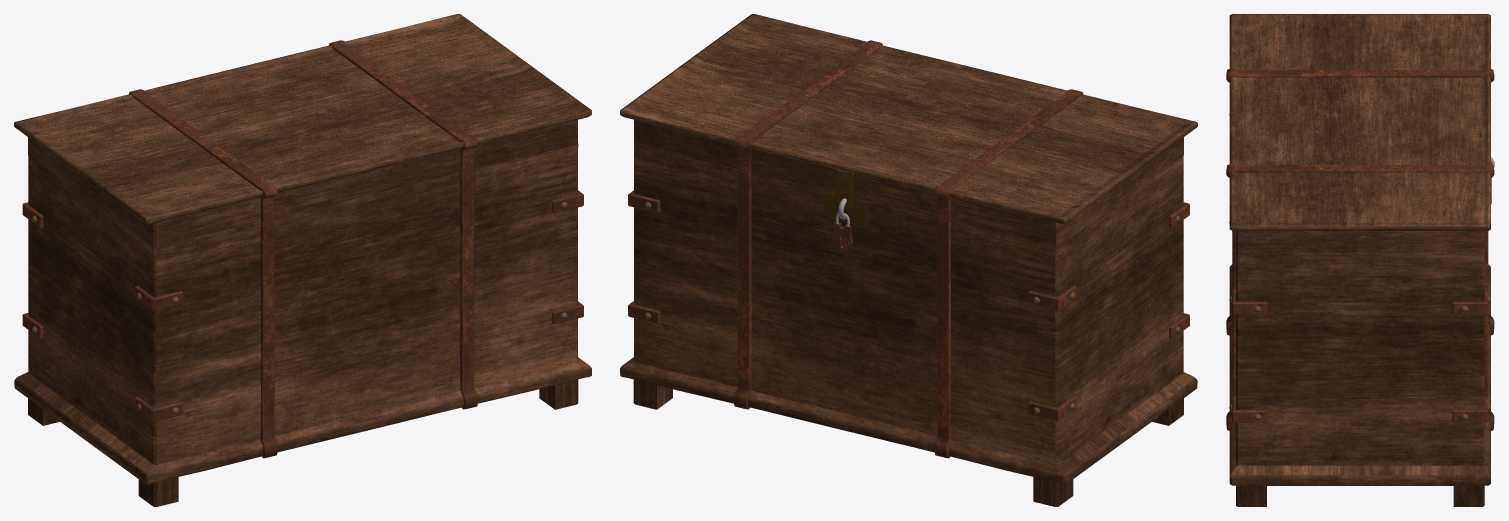
File: Baul_sketchfab.fbx
The picture shows the model from 3 angles, left to right: view 1: azimuth 30°, elevation 25°; view 2: azimuth 150°, elevation 25°; view 3: azimuth 270°, elevation 25°; orthographic projection. The views are drawn at different scales.
Parts seen in each view (by area): view 1: baul3, tapa2, polySurface4, polySurface3, polySurface2, polySurface1, adorno_2, adorno_4; view 2: baul3, tapa2, polySurface4, polySurface3, polySurface2, polySurface1, pCube1, adorno_6, adorno_8, pCube2; view 3: baul3, tapa2, polySurface1, polySurface2, polySurface4, adorno_7, adorno_5, adorno_3, adorno.
Boxes of the visible parts, left/top/right/bottom form: baul3: left=14, top=143, right=591, bottom=506; tapa2: left=14, top=14, right=591, bottom=247; polySurface4: left=460, top=170, right=477, bottom=409; polySurface3: left=261, top=220, right=277, bottom=458; polySurface2: left=329, top=40, right=477, bottom=173; polySurface1: left=129, top=89, right=277, bottom=222; adorno_2: left=135, top=396, right=183, bottom=421; adorno_4: left=135, top=286, right=183, bottom=310; baul3: left=620, top=144, right=1197, bottom=506; tapa2: left=620, top=14, right=1197, bottom=247; polySurface4: left=734, top=170, right=751, bottom=409; polySurface3: left=934, top=220, right=950, bottom=458; polySurface2: left=734, top=40, right=882, bottom=173; polySurface1: left=934, top=89, right=1083, bottom=222; pCube1: left=823, top=191, right=867, bottom=225; adorno_6: left=1028, top=285, right=1076, bottom=310; adorno_8: left=1028, top=396, right=1076, bottom=421; pCube2: left=835, top=169, right=853, bottom=213; baul3: left=1229, top=252, right=1490, bottom=506; tapa2: left=1229, top=14, right=1490, bottom=253; polySurface1: left=1226, top=68, right=1494, bottom=82; polySurface2: left=1226, top=163, right=1494, bottom=177; polySurface4: left=1226, top=231, right=1494, bottom=430; adorno_7: left=1452, top=396, right=1488, bottom=422; adorno_5: left=1452, top=289, right=1488, bottom=314; adorno_3: left=1232, top=289, right=1267, bottom=314; adorno: left=1232, top=397, right=1267, bottom=422.
Bounding box in the file's own units: 10.1 × 6.38 × 5.4.
